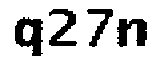2: (46, 7, 77, 52)
7: (84, 3, 113, 55)
n: (117, 14, 147, 51)
q: (10, 17, 43, 60)
